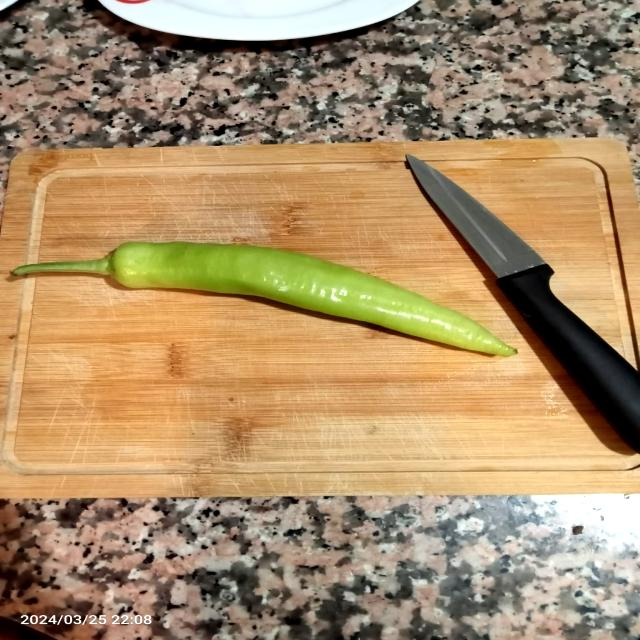green pepper: (15, 229, 522, 369)
